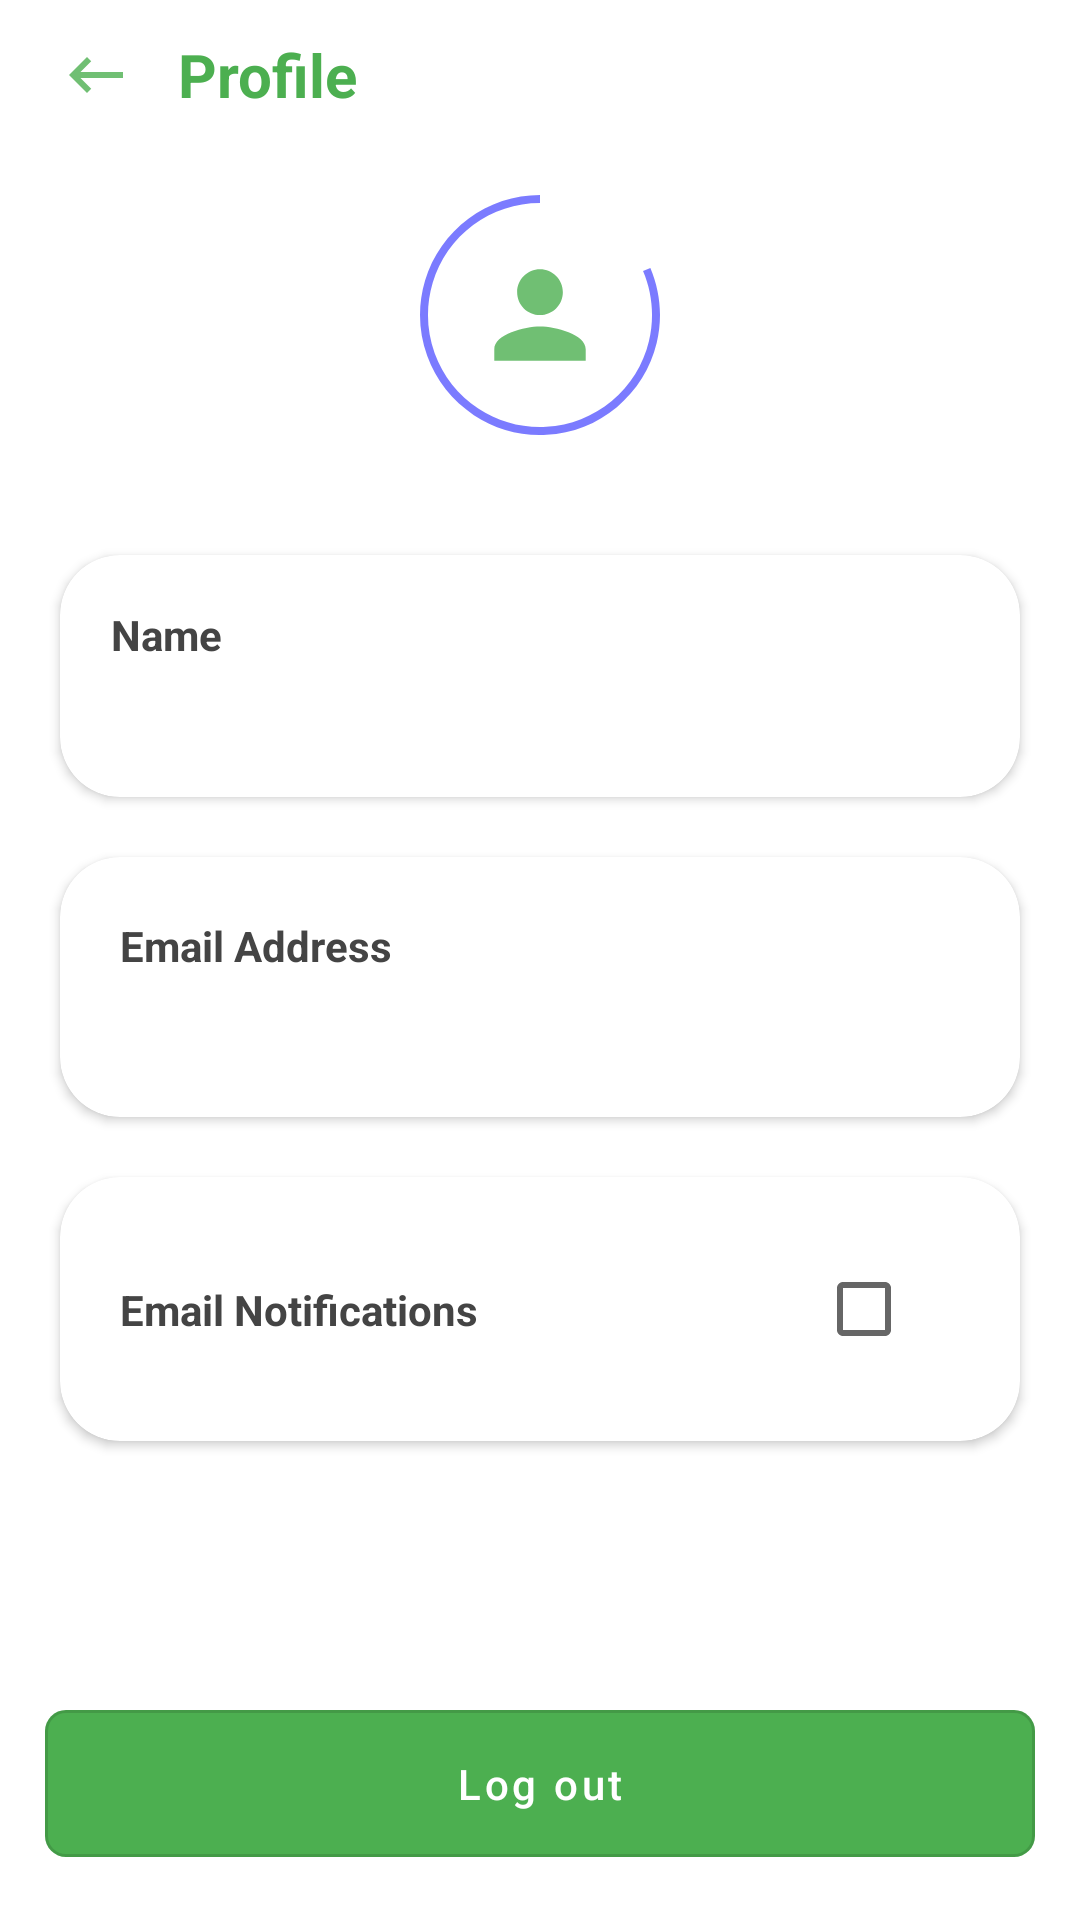

Named icons in this screenshot (1080x1920) and their bounding boxes, (x1, y1, x2, y2):
person: (420, 195, 660, 435)
